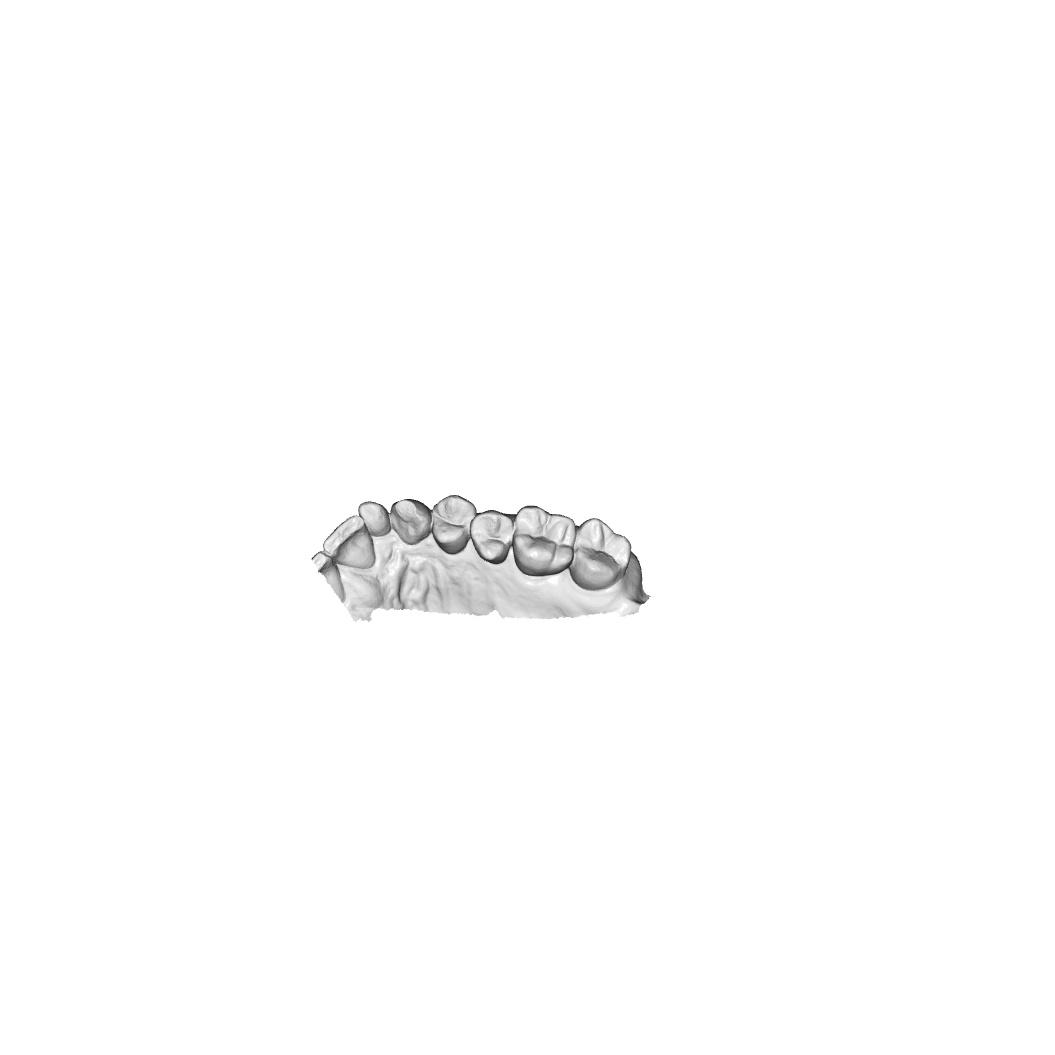canine: (390, 498, 432, 546)
incisor: (322, 514, 377, 570), (357, 500, 392, 538)
molar: (569, 517, 633, 592), (513, 504, 577, 577)
premolar: (431, 493, 477, 555), (469, 509, 515, 565)
